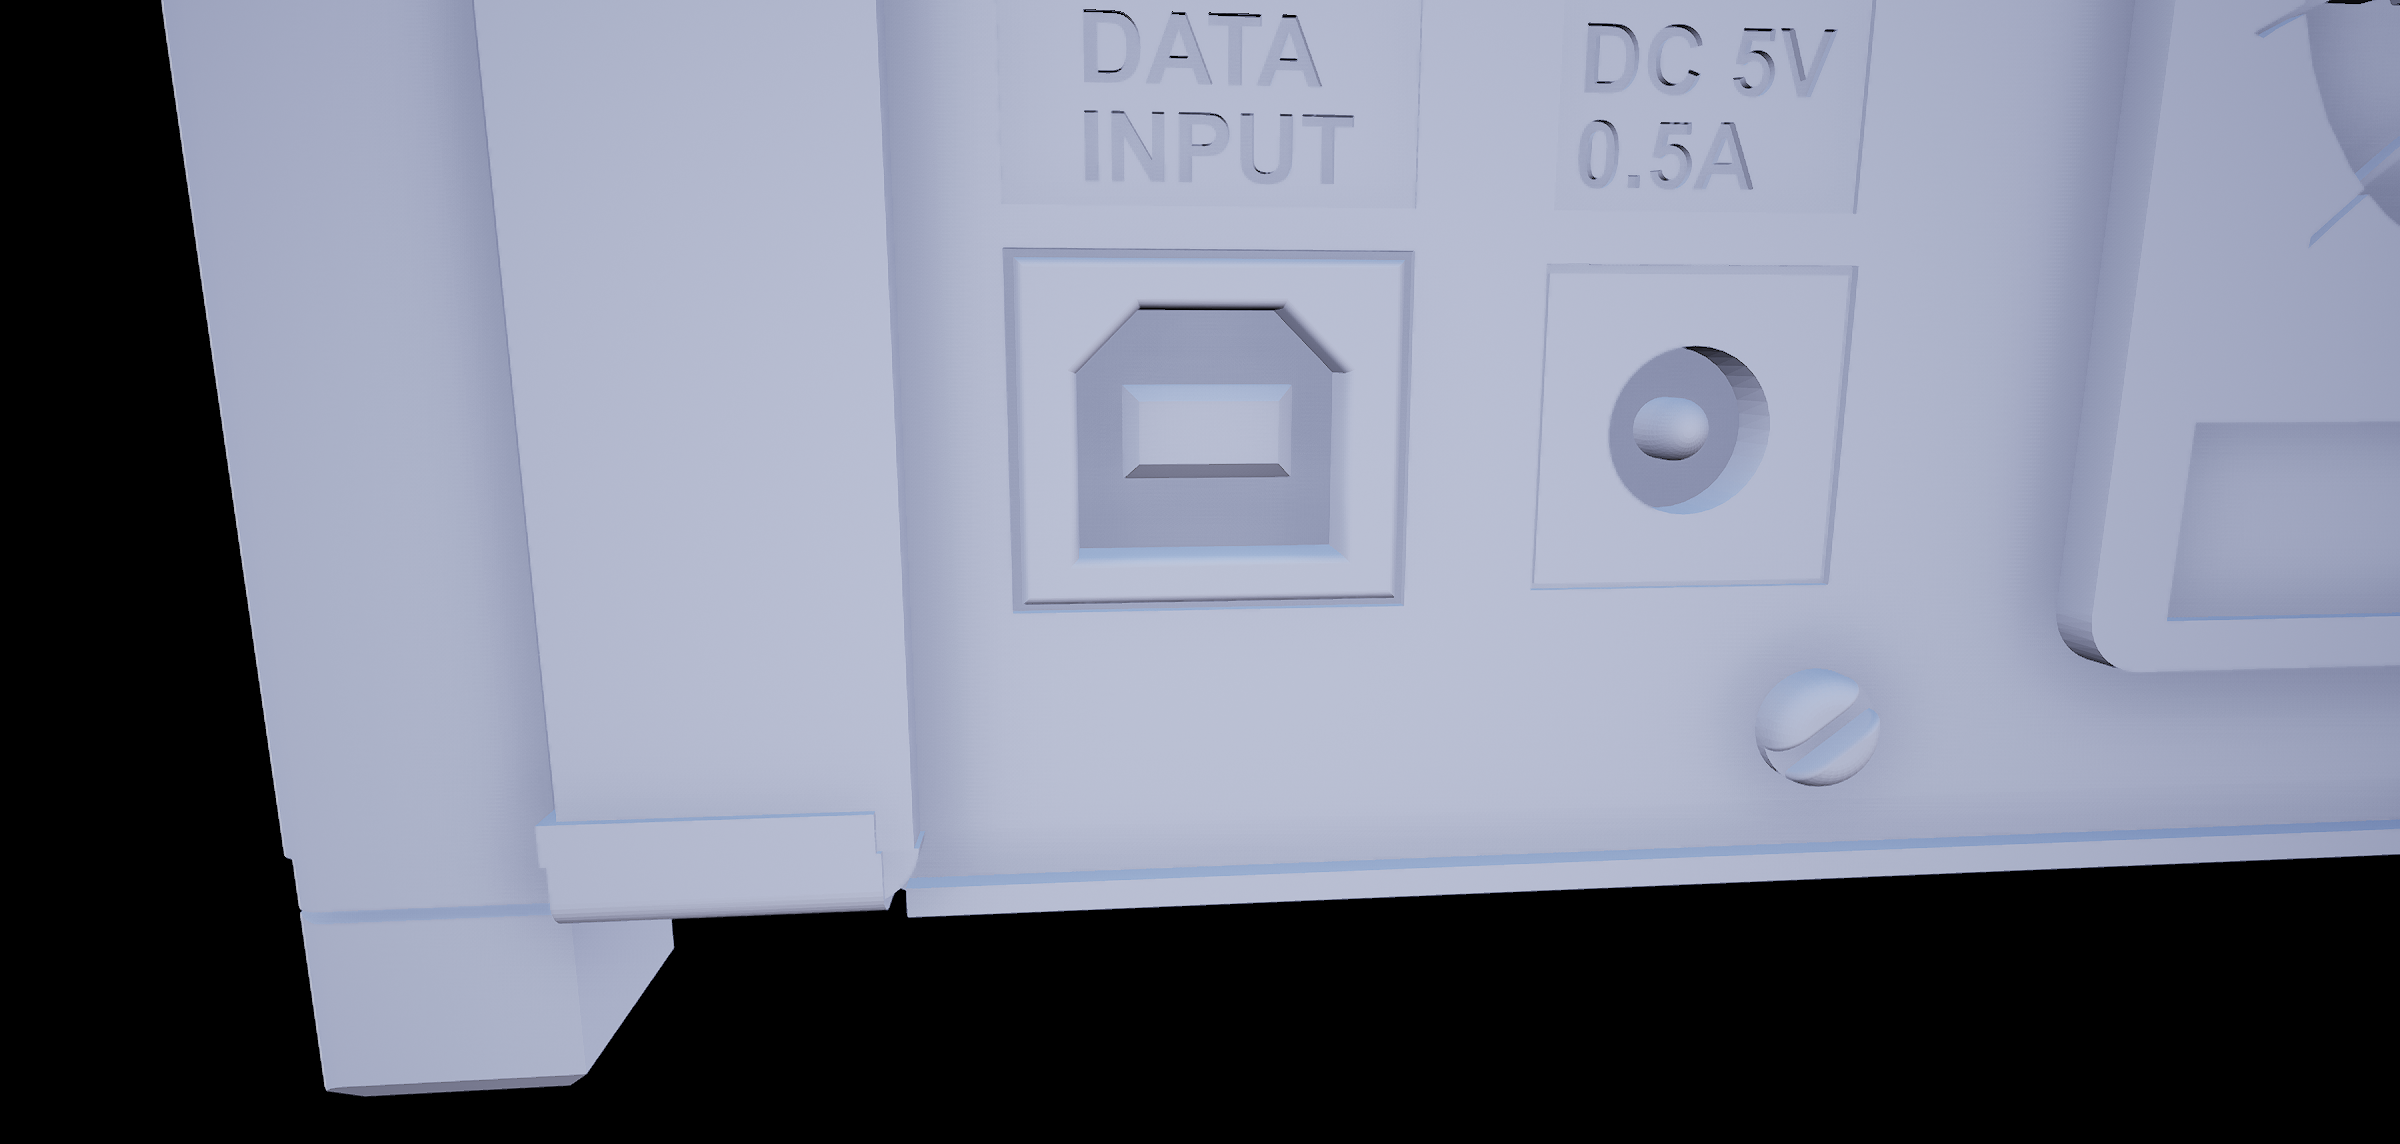dc: (1589, 326, 1783, 530)
usb: (1065, 276, 1378, 576)
